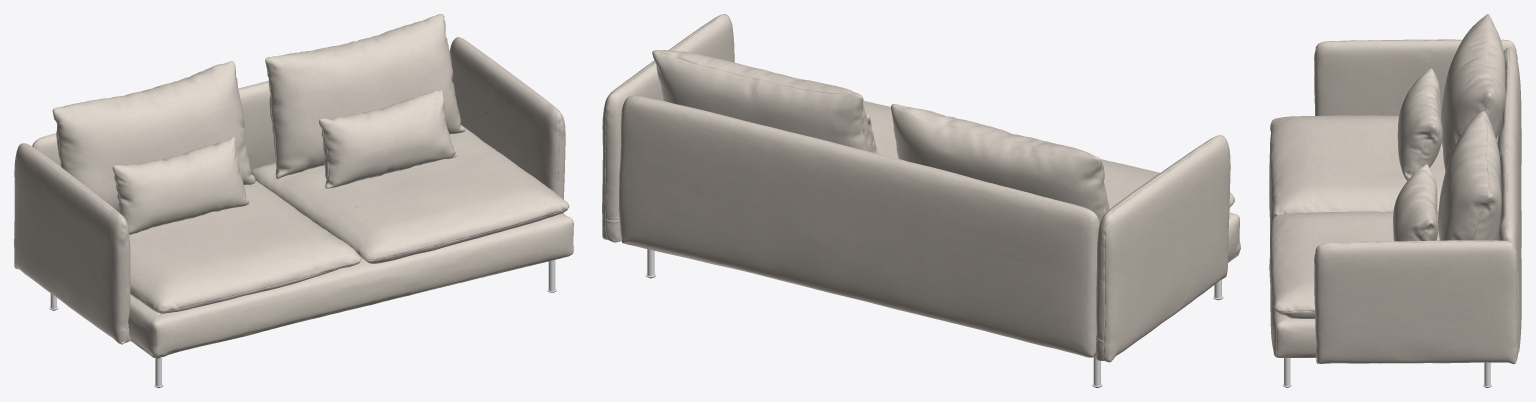
The model's file is soderhamn_sofa_3_osobowa_79305423.glb.
3 views of the same model, side by side, from view 1: azimuth 30°, elevation 25°; view 2: azimuth 150°, elevation 25°; view 3: azimuth 270°, elevation 25° (orthographic). The views are drawn at different scales.
Visible parts, largest first — view 1: soderhamn_sofa_3_osobowa_79305423; view 2: soderhamn_sofa_3_osobowa_79305423; view 3: soderhamn_sofa_3_osobowa_79305423.
Boxes of the visible parts, x1=… form: soderhamn_sofa_3_osobowa_79305423: x1=14, y1=14, x2=573, y2=387; soderhamn_sofa_3_osobowa_79305423: x1=602, y1=14, x2=1240, y2=387; soderhamn_sofa_3_osobowa_79305423: x1=1269, y1=14, x2=1521, y2=387.
Size of the model in its own units: 2.01 by 0.8673 by 1.02.
3 materials, 1 textured.
